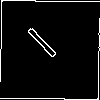I: (24, 24, 66, 68)
